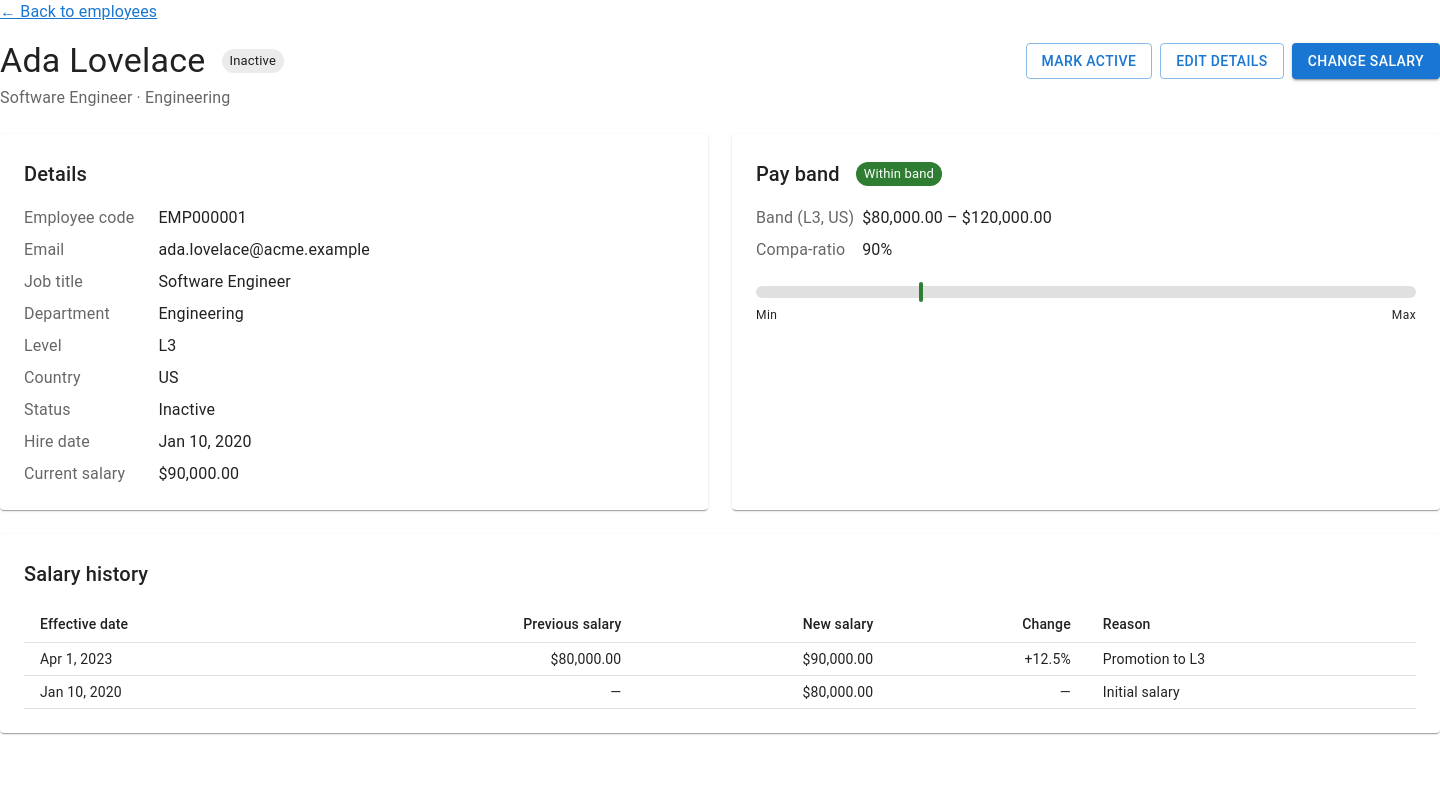
Test: Mark inactive / Mark active › reactivates an inactive employee after confirmation
This screenshot has width=1440, height=810.
Click the button "Mark active": x=1089, y=61 [1026,43,1152,79]
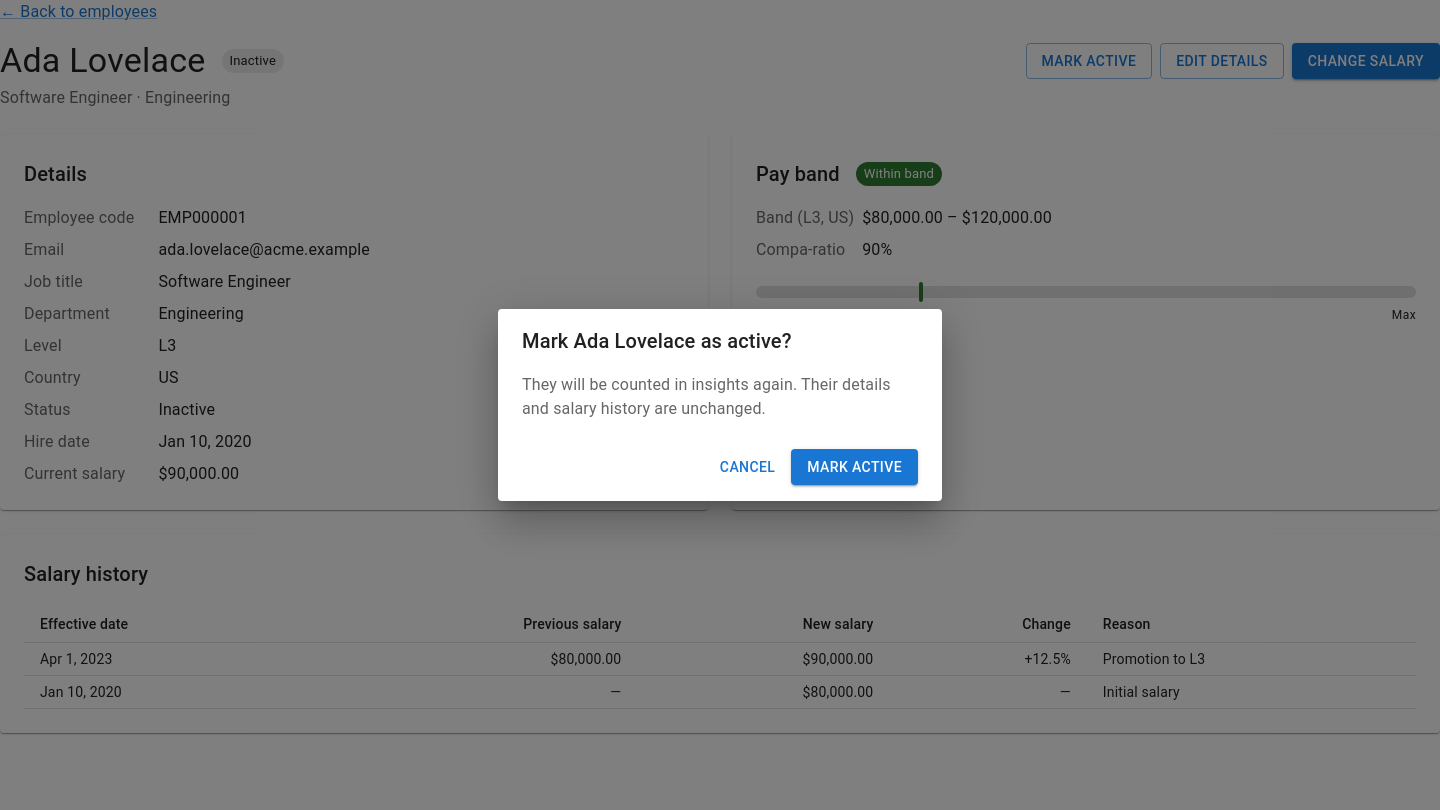
Click the button "Mark active": x=855, y=467 [791,449,918,485]
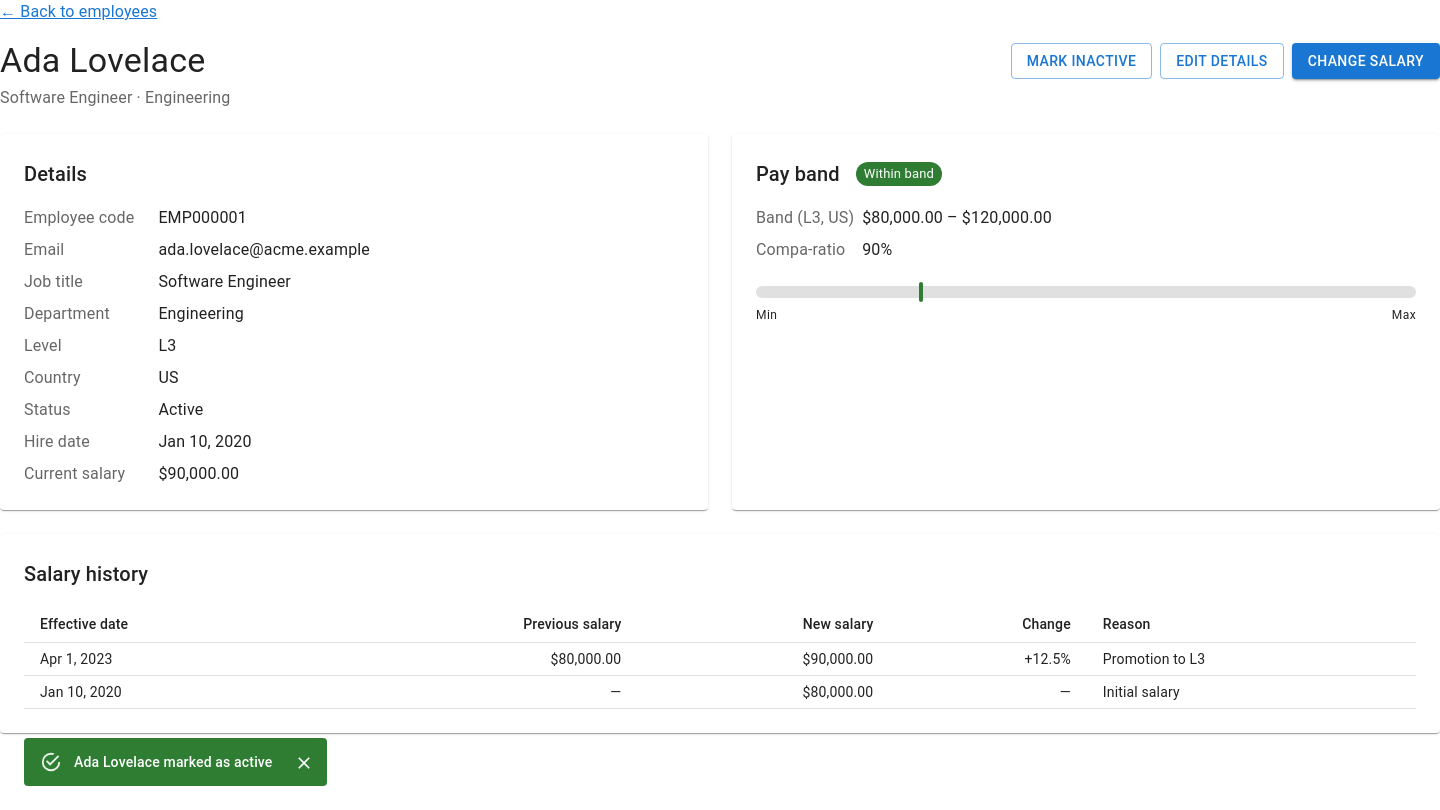
Check: the text "Ada Lovelace marked as active" is shown, box [74,754,272,770]
Check: the button "Mark inactive" is shown, box [1011,43,1152,79]
Check: the text "Active" is shown, box [158,400,203,419]
